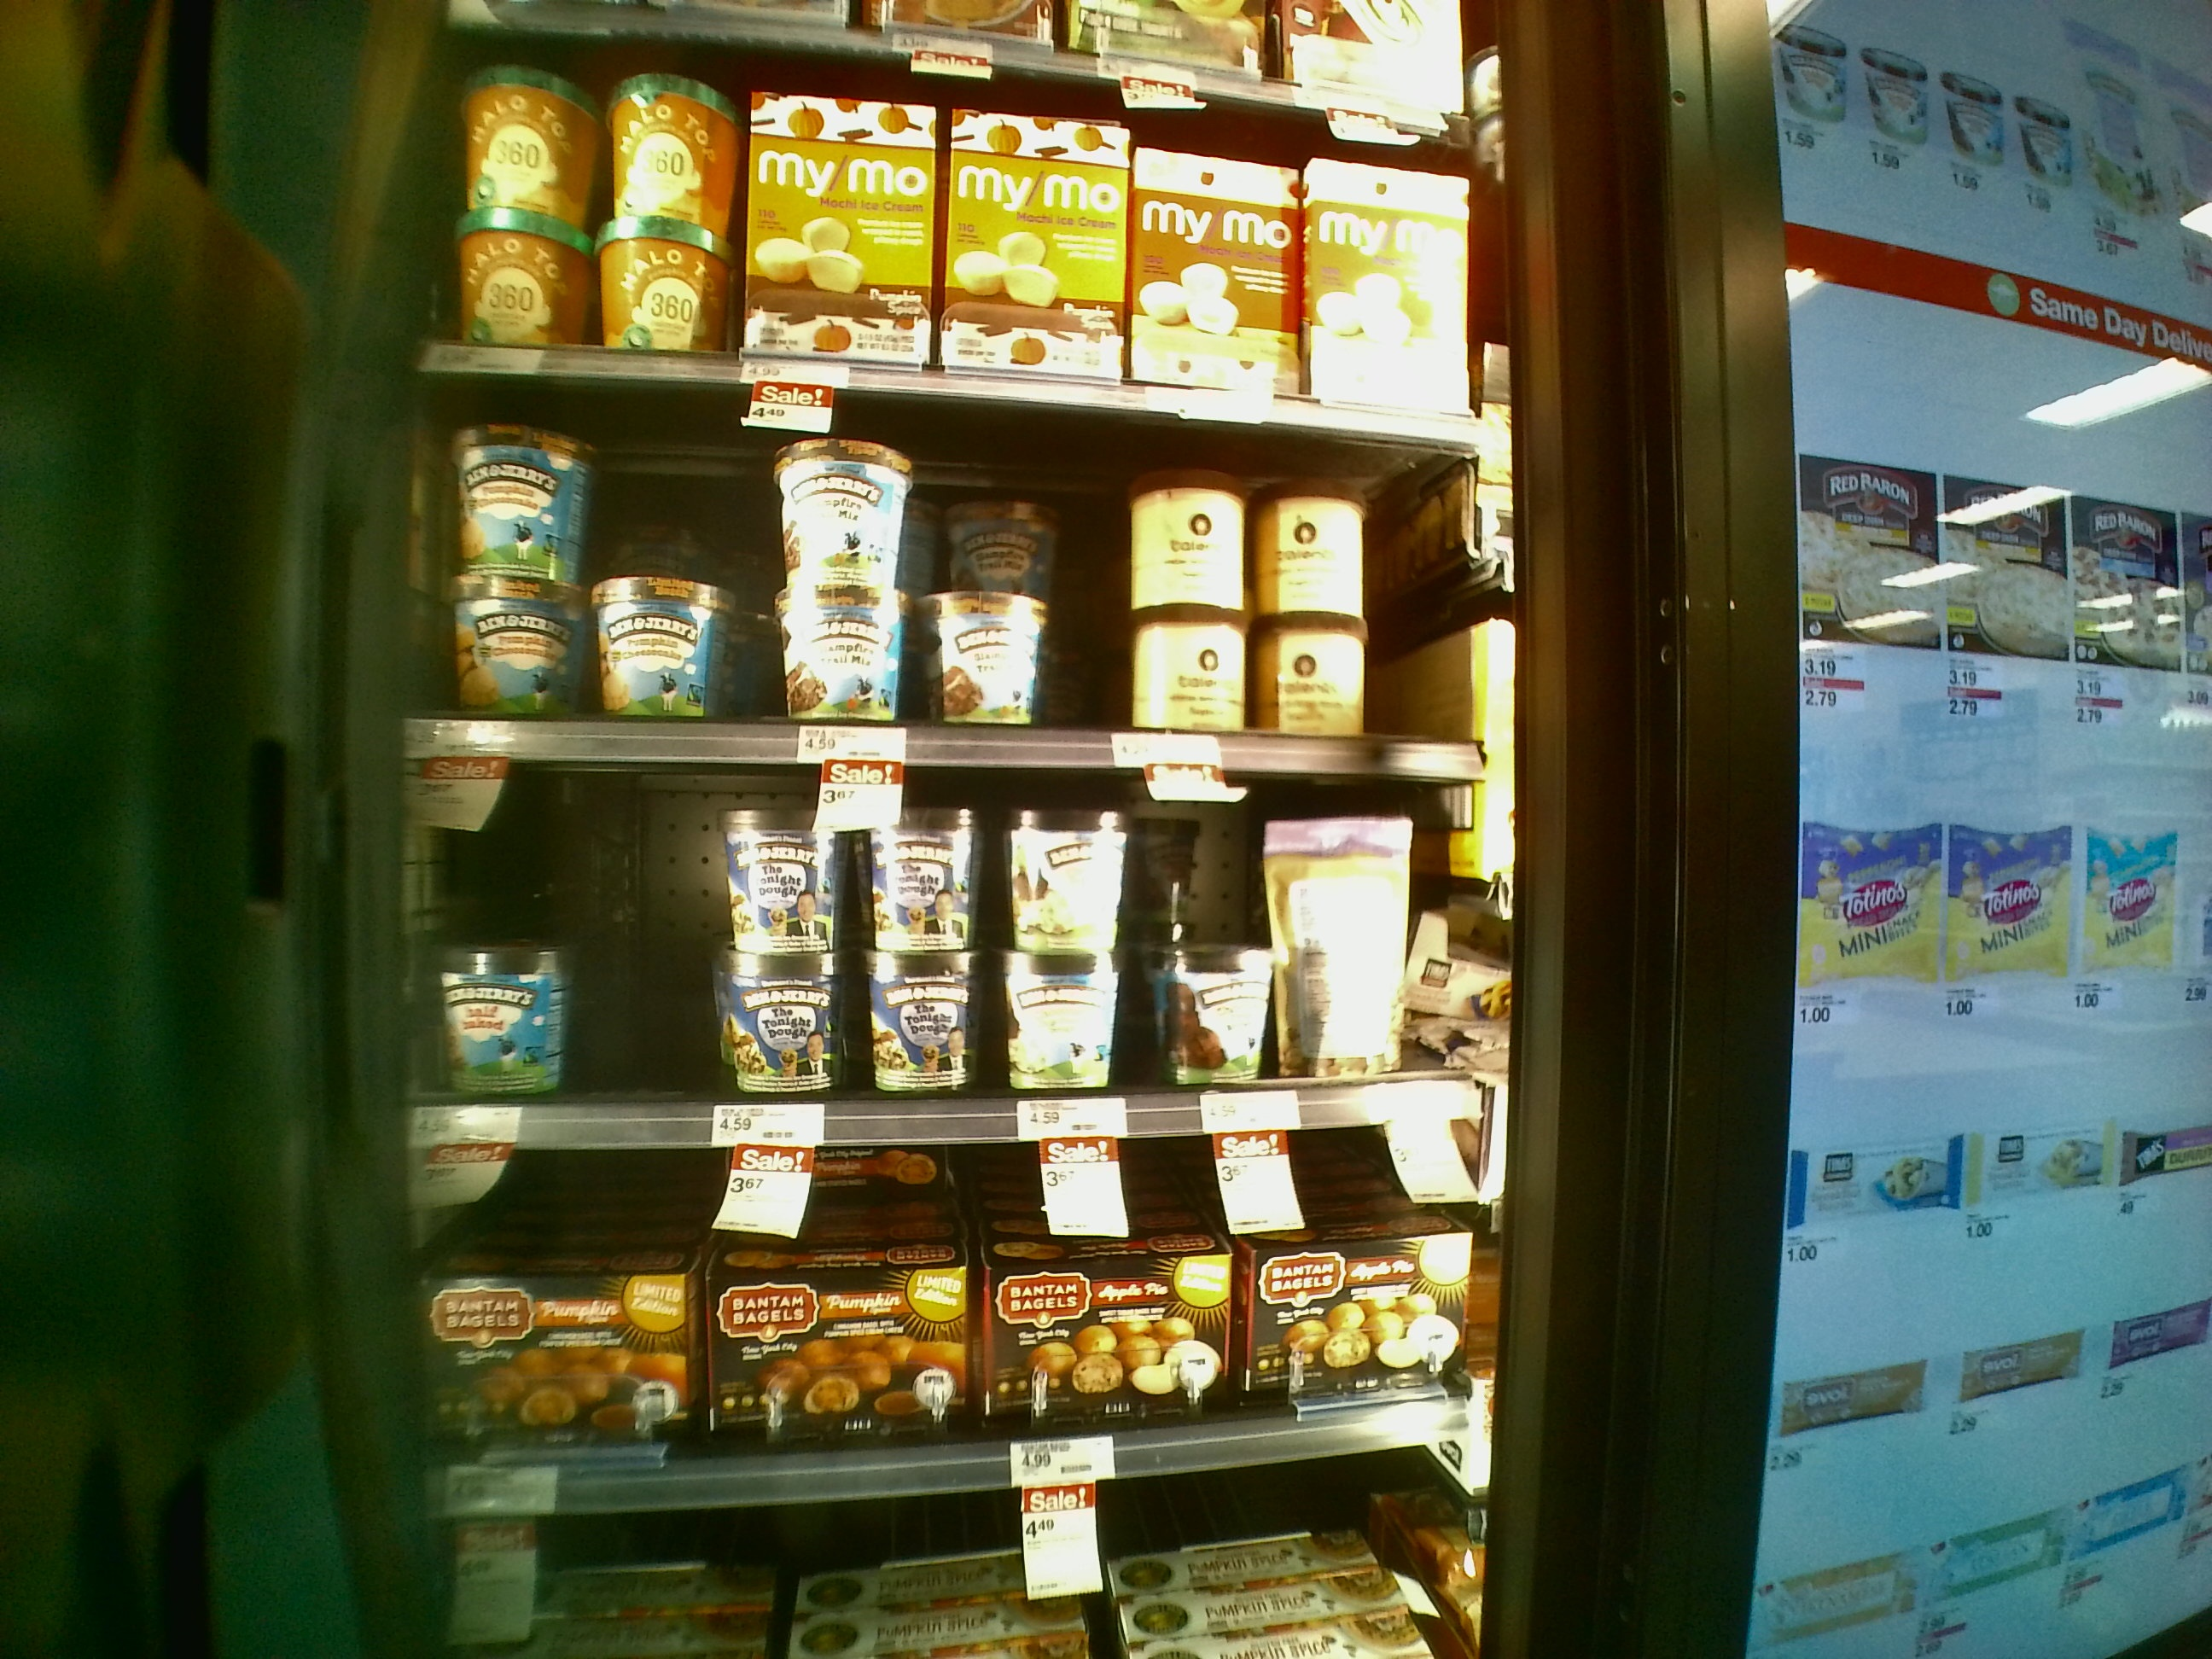shelf: (381, 368, 1498, 779), (371, 742, 1519, 1138), (374, 1129, 1507, 1502)
